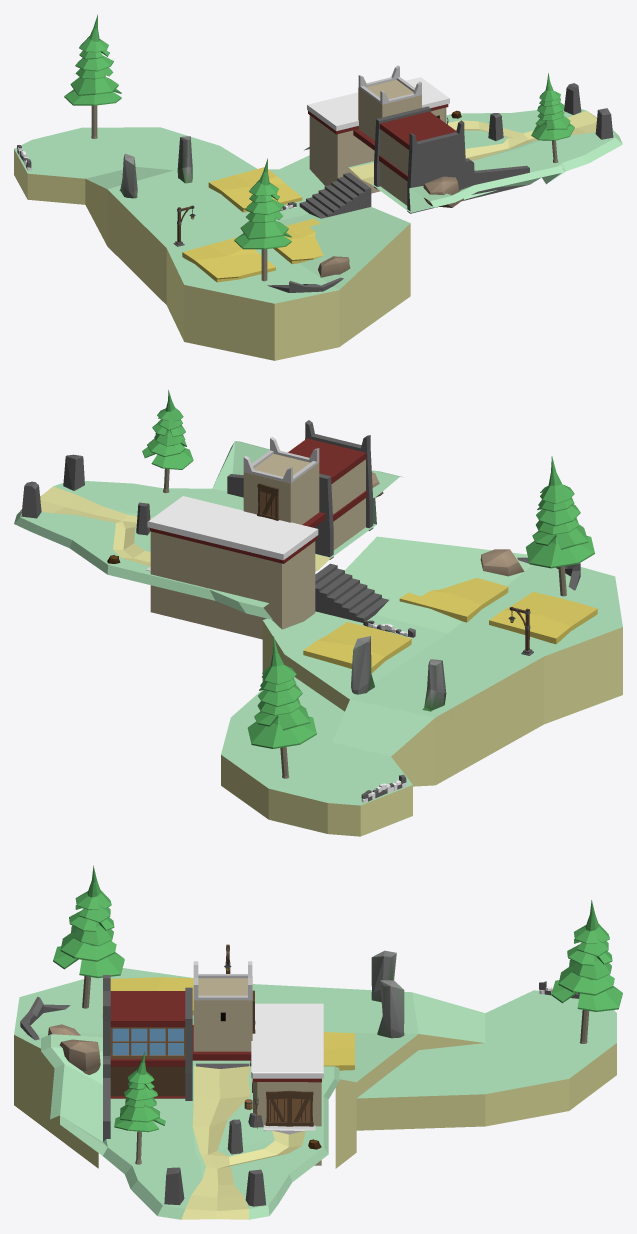
The model's file is SM_Island One house .fbx.
3 views of the same model, one above another, from view 1: azimuth 30°, elevation 25°; view 2: azimuth 150°, elevation 25°; view 3: azimuth 270°, elevation 25° (orthographic). The views are drawn at different scales.
Parts seen in each view (by area): view 1: Plane.001, Island01.002, Cube.037, Cube.024, Pine.004, Pine.005, wheatField.005, Cube.013, Cube.023, Cube.025, Cube.036, wheatField.003 (+10 smaller); view 2: Plane.001, Island01.002, Cube.024, Cube.023, Pine.004, Pine.005, Cube.025, wheatField.005, Cube.013, wheatField.003, wheatField.004, Pine.003 (+12 smaller); view 3: Plane.001, Island01.002, Cube.023, Pine.004, Pine.005, Cube.036, Cube.025, Pine.003, Windowstibetean.002, Cube.029, Cube.024, Dolmen.003 (+13 smaller).
Part boxes in pixels (bbox=[...]): Plane.001: bbox=[14, 127, 410, 360]; Island01.002: bbox=[304, 109, 622, 212]; Cube.037: bbox=[407, 120, 529, 213]; Cube.024: bbox=[309, 107, 446, 193]; Pine.004: bbox=[64, 14, 121, 138]; Pine.005: bbox=[234, 158, 291, 281]; wheatField.005: bbox=[182, 237, 275, 282]; Cube.013: bbox=[299, 172, 371, 218]; Cube.023: bbox=[307, 77, 449, 130]; Cube.025: bbox=[358, 80, 421, 140]; Cube.036: bbox=[353, 111, 456, 181]; wheatField.003: bbox=[208, 167, 302, 212]; Plane.001: bbox=[221, 536, 622, 836]; Island01.002: bbox=[14, 441, 403, 619]; Cube.024: bbox=[150, 531, 315, 639]; Cube.023: bbox=[147, 496, 318, 560]; Pine.004: bbox=[247, 636, 316, 778]; Pine.005: bbox=[526, 456, 594, 596]; Cube.025: bbox=[243, 454, 319, 524]; wheatField.005: bbox=[489, 591, 597, 644]; Cube.013: bbox=[315, 563, 388, 622]; wheatField.003: bbox=[303, 622, 411, 673]; wheatField.004: bbox=[399, 578, 508, 622]; Pine.003: bbox=[142, 390, 193, 493]; Plane.001: bbox=[14, 968, 616, 1168]; Island01.002: bbox=[41, 1034, 339, 1219]; Cube.023: bbox=[251, 1003, 323, 1078]; Pine.004: bbox=[551, 900, 622, 1043]; Pine.005: bbox=[53, 865, 124, 1008]; Cube.036: bbox=[110, 991, 251, 1098]; Cube.025: bbox=[193, 976, 252, 1051]; Pine.003: bbox=[114, 1051, 165, 1164]; Windowstibetean.002: bbox=[112, 1028, 183, 1055]; Cube.029: bbox=[110, 1066, 185, 1096]; Cube.024: bbox=[253, 1082, 321, 1165]; Dolmen.003: bbox=[377, 980, 404, 1038].
Size of the model in its own units: 3687 by 1344 by 3427.
